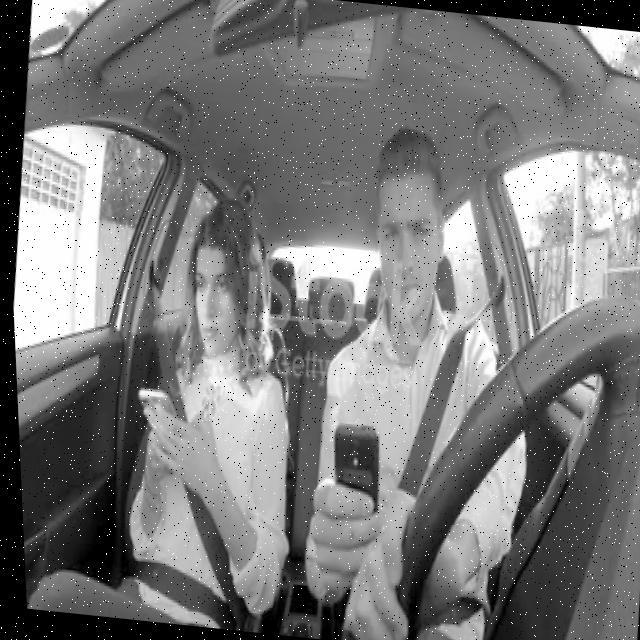PhoneCall: (318, 418, 386, 540), (126, 385, 176, 446)
